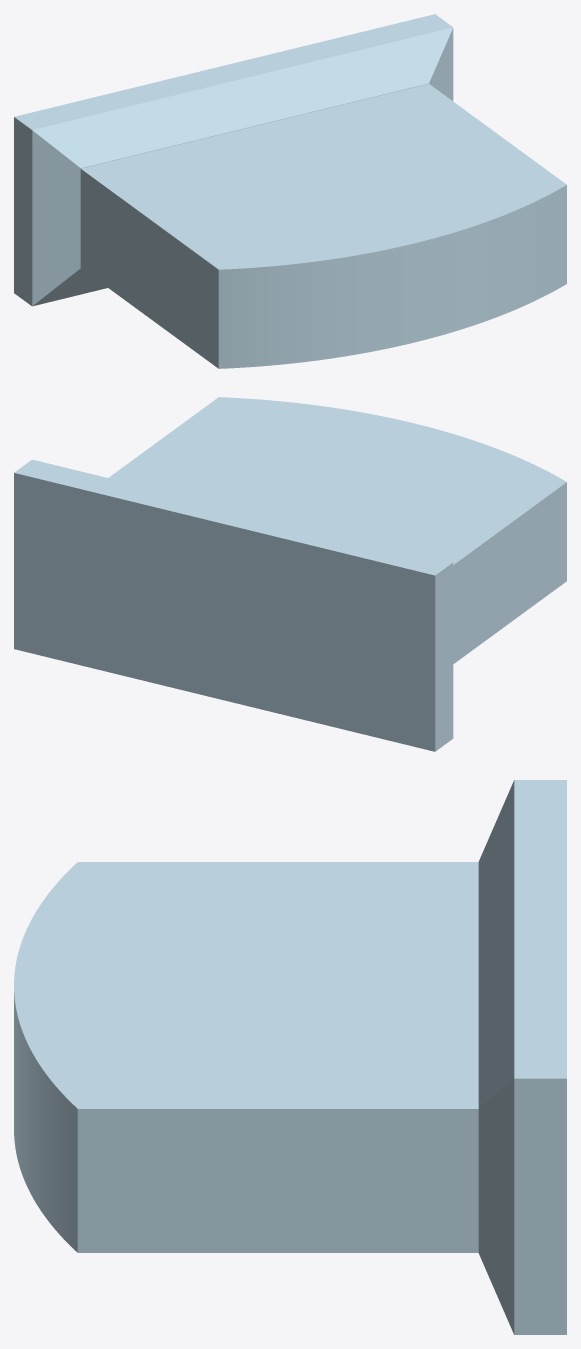
3 renders of one model, top to bottom at view 1: azimuth 30°, elevation 25°; view 2: azimuth 150°, elevation 25°; view 3: azimuth 270°, elevation 25°, orthographic. The views are drawn at different scales.
Parts seen in each view (by area): view 1: PA-147-F_LOD0; view 2: PA-147-F_LOD0; view 3: PA-147-F_LOD0.
Boxes of the visible parts, x1,y1,x2,y2 form: PA-147-F_LOD0: [14, 14, 566, 368]; PA-147-F_LOD0: [14, 397, 566, 751]; PA-147-F_LOD0: [14, 780, 566, 1334].
Bounding box in the file's own units: 102 × 40.64 × 79.49.
